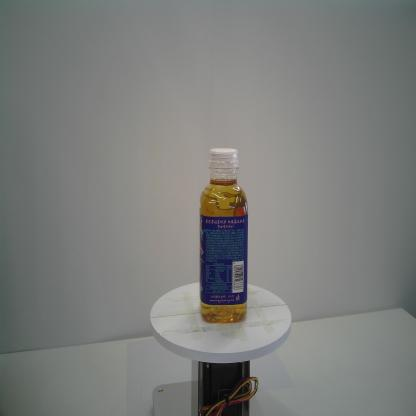Drink: (199, 147, 249, 325)
